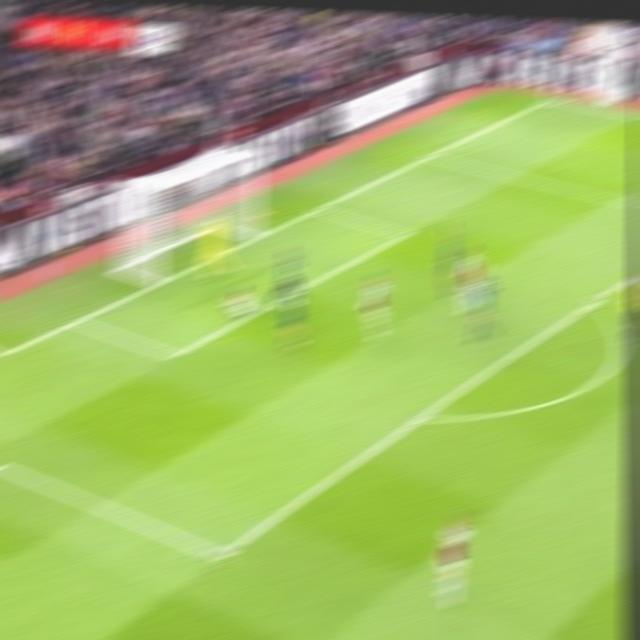bigarea_bottom_inner: (207, 544, 236, 572)
bigarea_top_outter: (423, 151, 441, 161)
bottom_arc_area_intersection: (407, 407, 437, 430)
corner: (537, 96, 563, 107)
smallarea_bottom_inner: (165, 347, 184, 364)
smallarea_bottom_outter: (67, 311, 87, 333)
smallarea_top_inner: (395, 225, 417, 244)
smallarea_top_outter: (309, 203, 328, 219)
top_arc_area_intersection: (587, 291, 608, 315)
